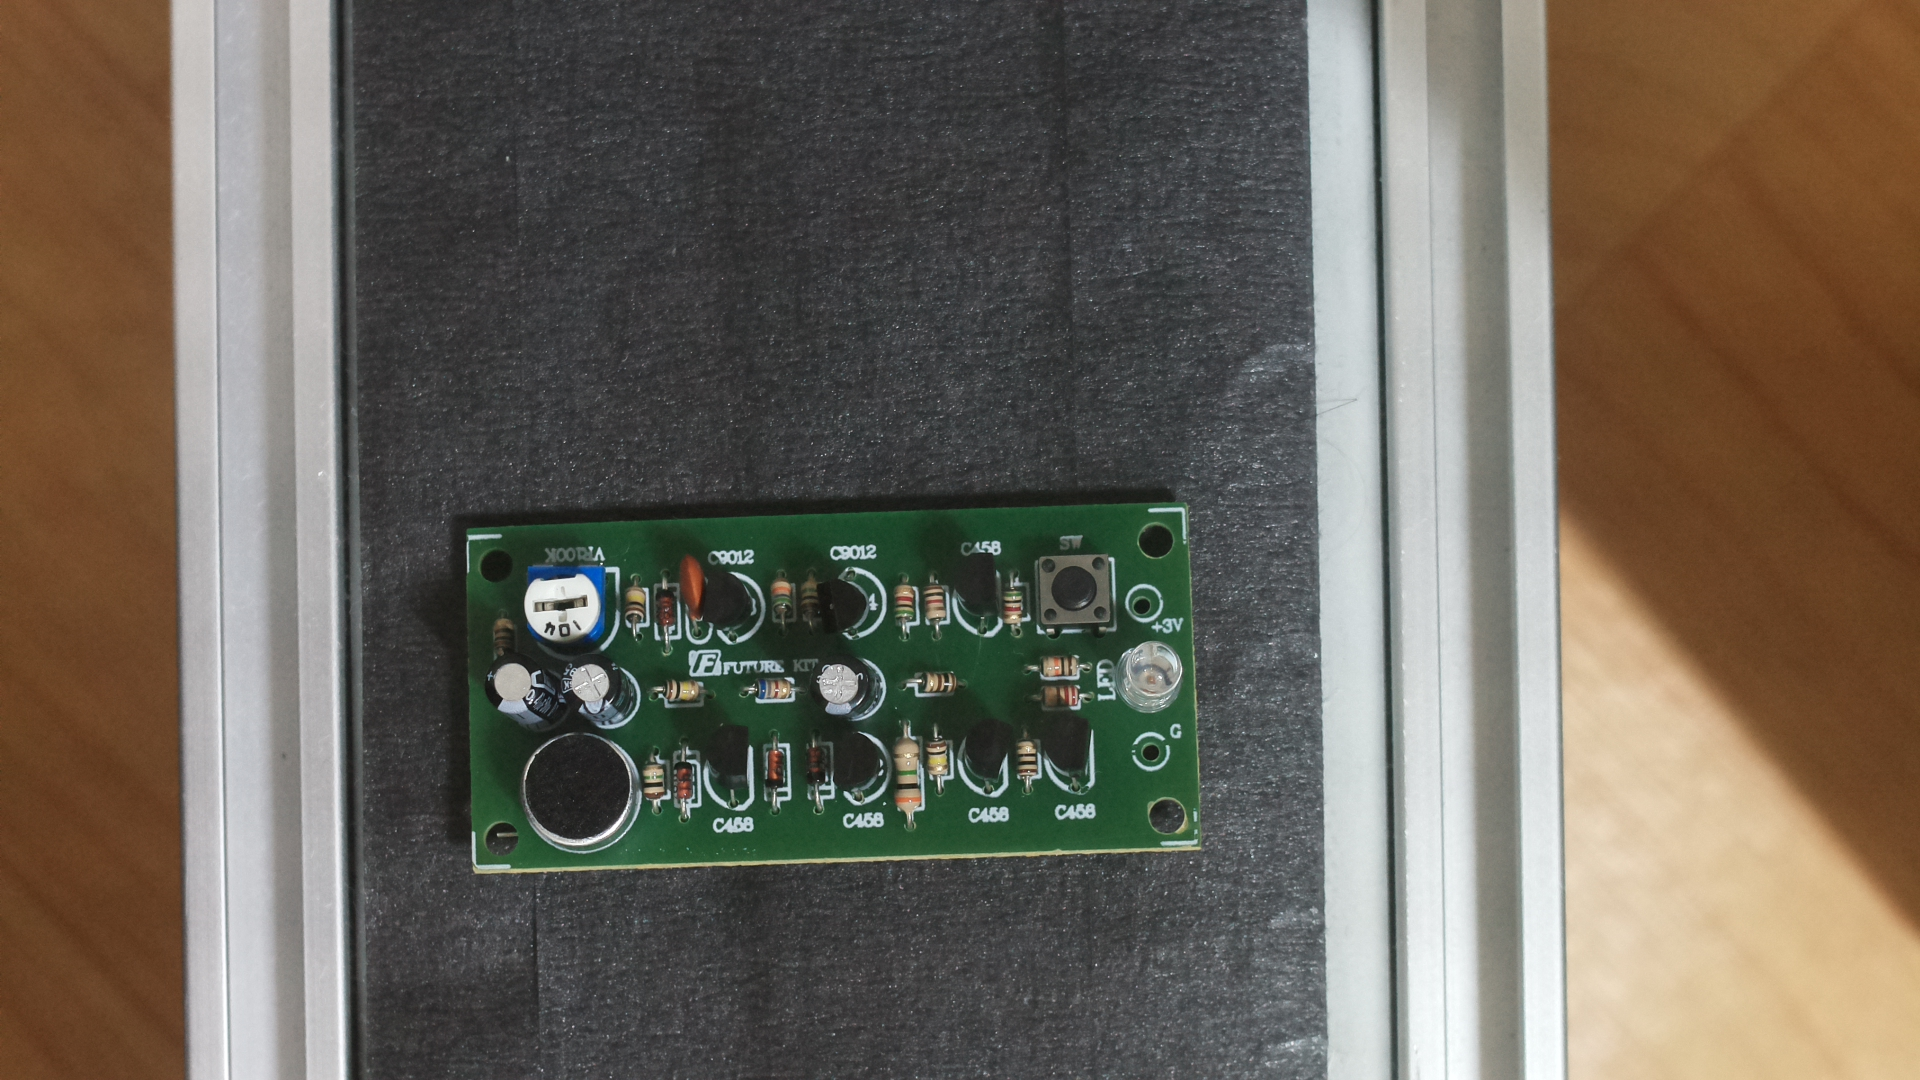A_Normal: (455, 504, 1213, 880)
